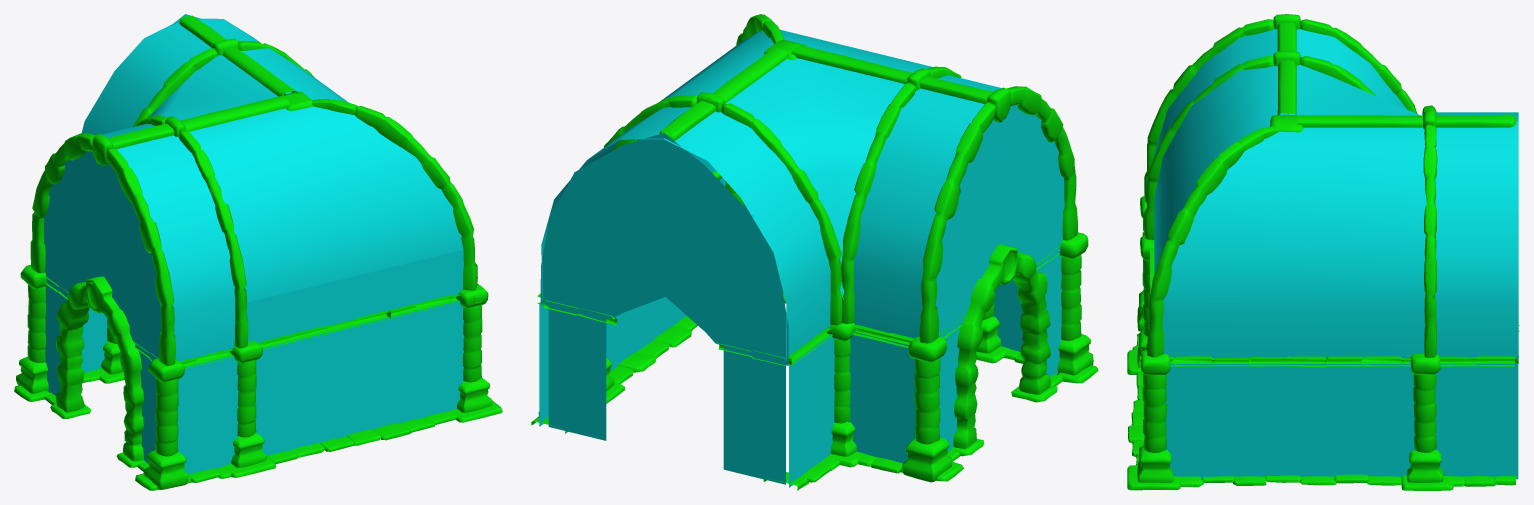
File: Hallway_Corner_2.fbx
3 views of the same model, side by side, from view 1: azimuth 30°, elevation 25°; view 2: azimuth 150°, elevation 25°; view 3: azimuth 270°, elevation 25° (orthographic). The views are drawn at different scales.
Visible parts, largest first — view 1: Room_Corner_2:Corner1Walls, Room_Corner_2:Corner1Frame; view 2: Room_Corner_2:Corner1Walls, Room_Corner_2:Corner1Frame; view 3: Room_Corner_2:Corner1Walls, Room_Corner_2:Corner1Frame.
Boxes of the visible parts, x1,y1,x2,y2 form: Room_Corner_2:Corner1Walls: (44,14,465,474); Room_Corner_2:Corner1Frame: (14,15,502,490); Room_Corner_2:Corner1Walls: (539,29,1064,487); Room_Corner_2:Corner1Frame: (531,14,1098,490); Room_Corner_2:Corner1Walls: (1154,29,1518,479); Room_Corner_2:Corner1Frame: (1127,14,1519,490).
Bounding box in the file's own units: 1088 × 1021 × 895.
